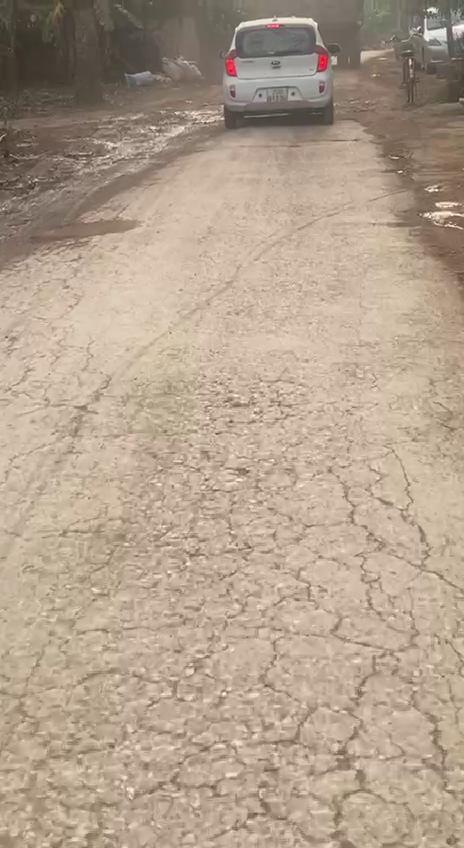pothole: (31, 211, 141, 246)
